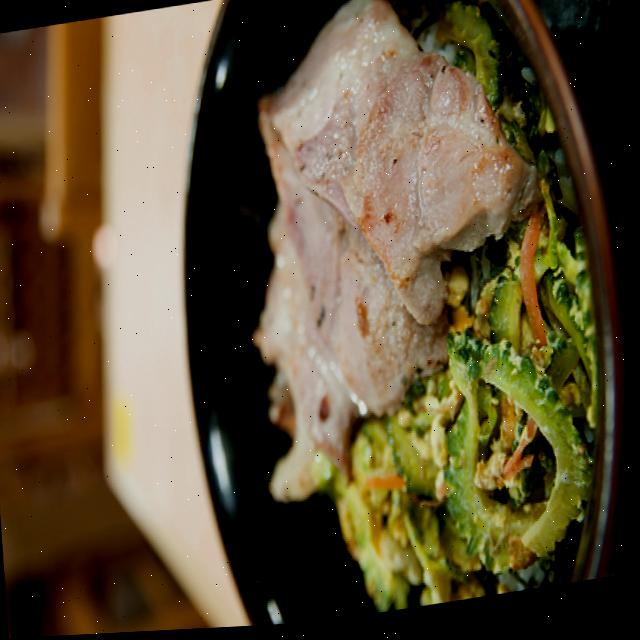熟制海鲜: (167, 0, 640, 632)
